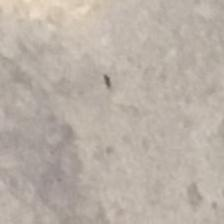Non_Crack: (19, 19, 214, 218)
